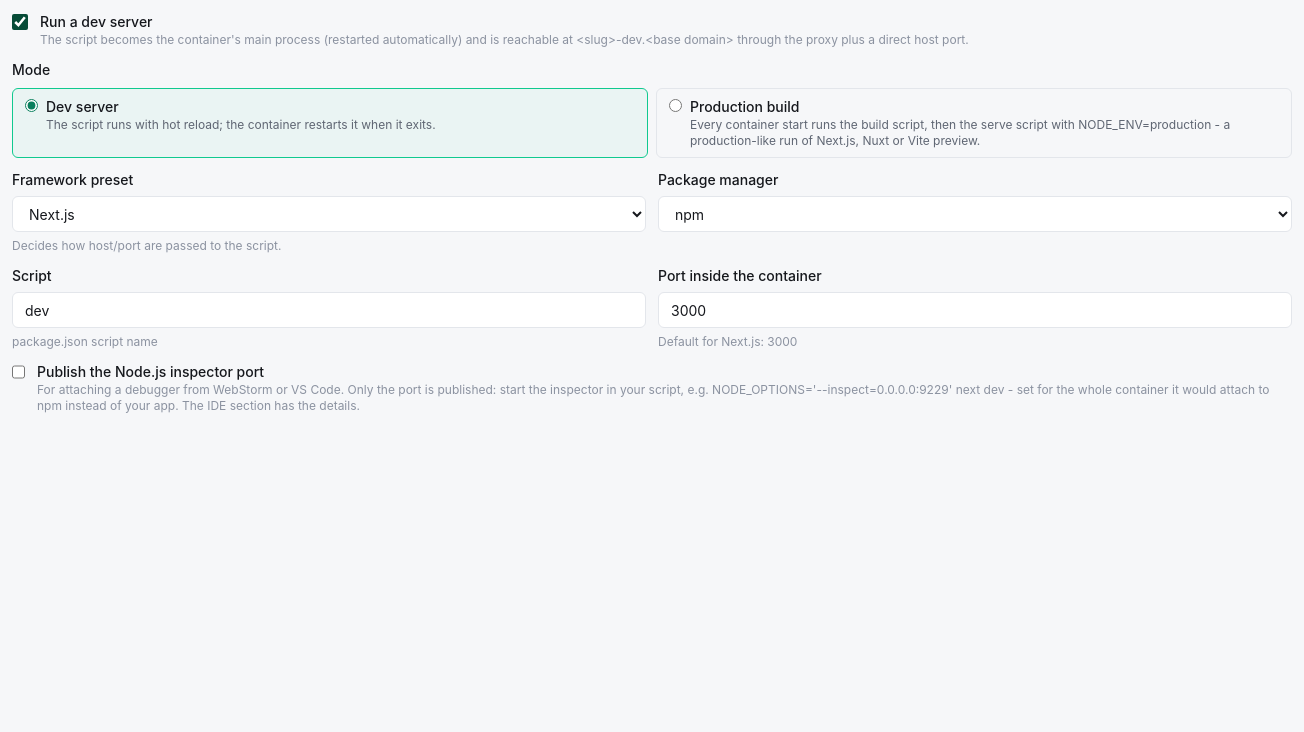
Node production mode and inspector › switches the script defaults with the mode and sends build script and inspector port
Click the radio button labelled "Production build" at (676, 106), box [669,99,682,112]
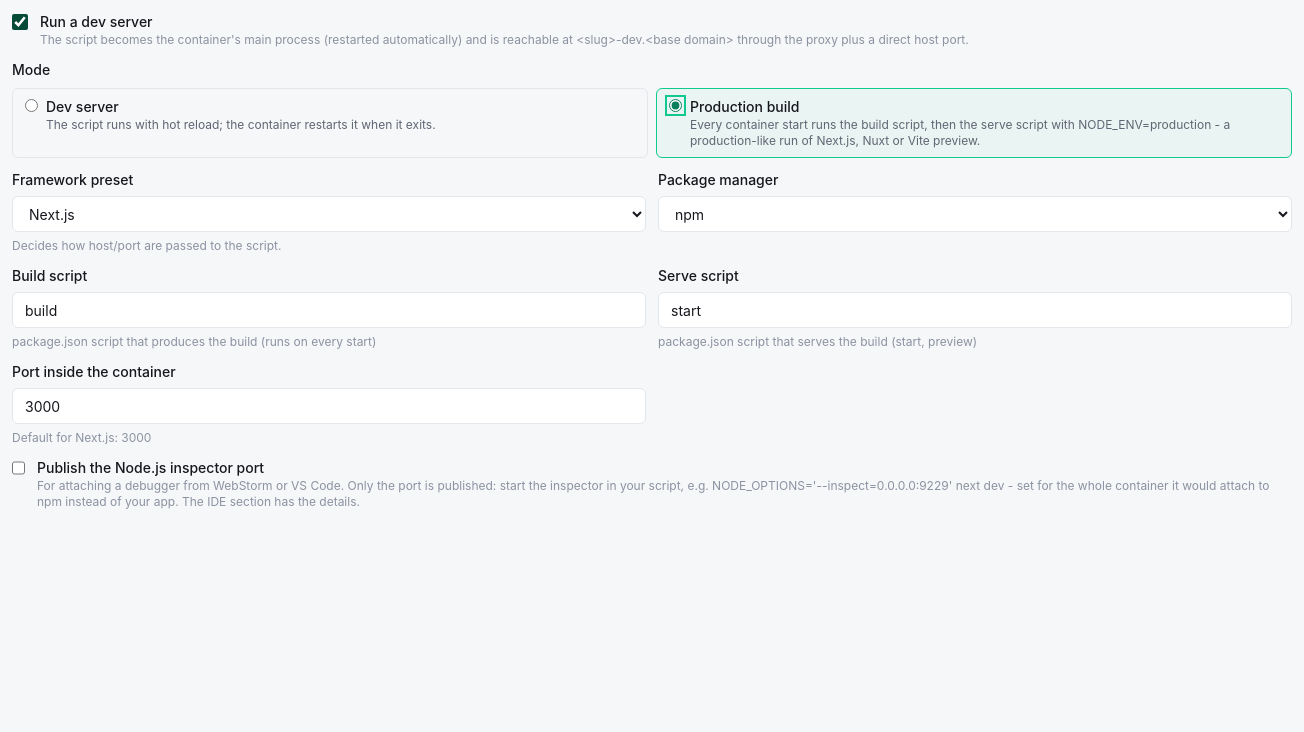
Check: the field labelled "Build script" holds "build", box [12,292,646,328]
Check: the field labelled "Serve script" holds "start", box [658,292,1292,328]
Select "Vite (Vue, React, Svelte, Laravel…)" in the dropdown labelled "Framework preset" at (329, 214), box [12,196,646,232]
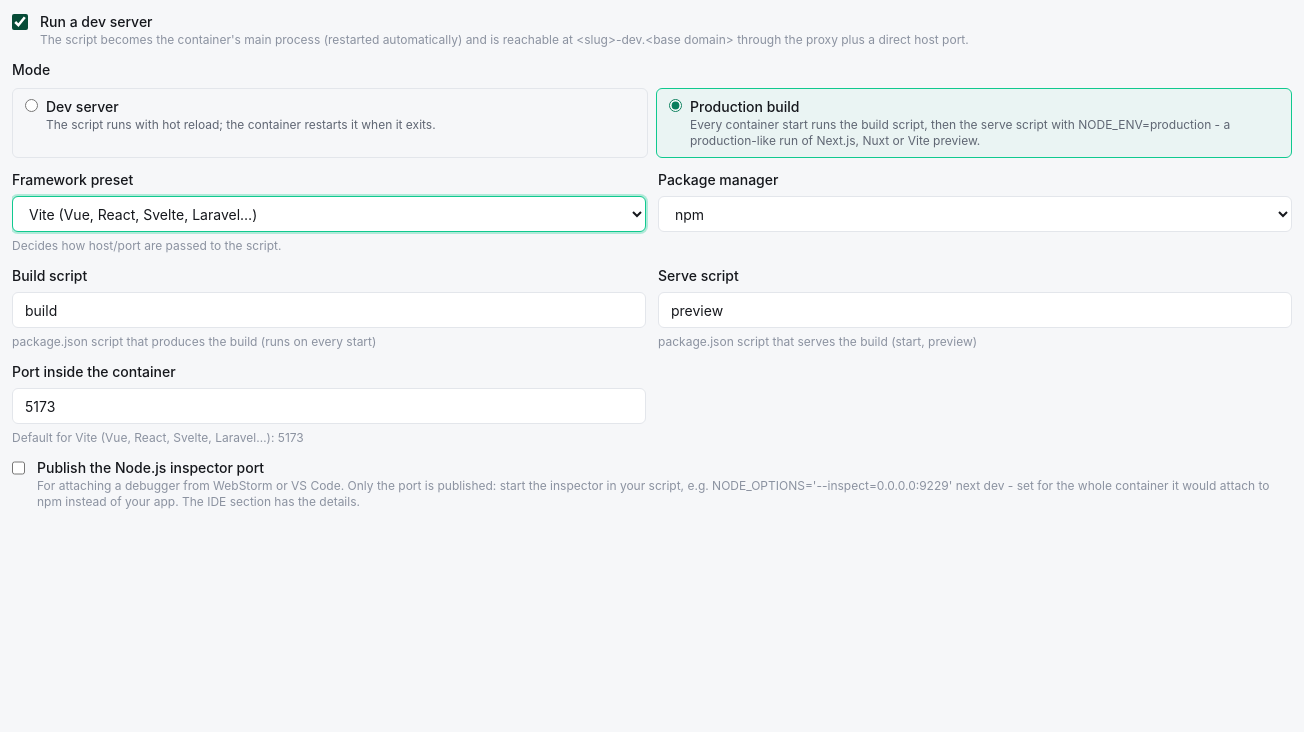
Check: the field labelled "Serve script" holds "preview"
Type "serve" into the field labelled "Serve script" at (975, 310), box [658,292,1292,328]
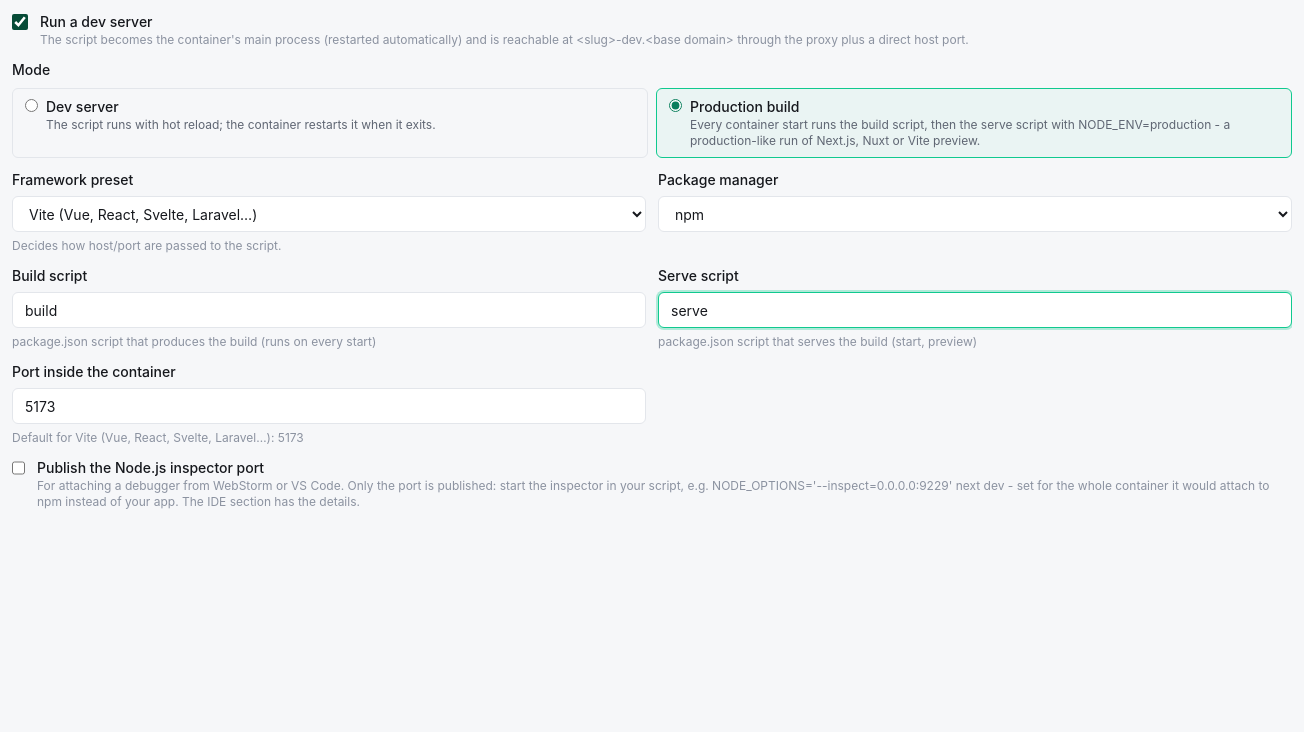
Click the radio button labelled "Dev server" at (32, 106), box [25,99,38,112]
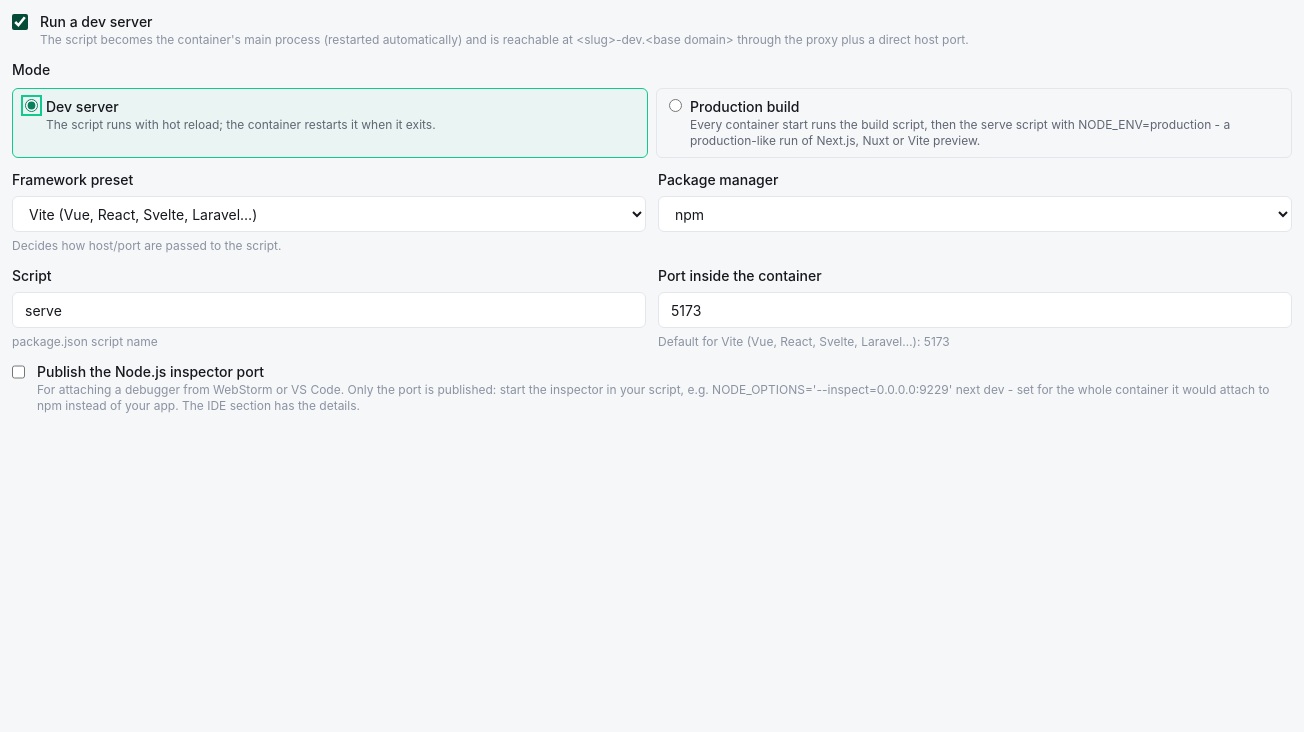
Click the checkbox labelled "Publish the Node.js inspector port" at (18, 372), box [12,364,25,380]
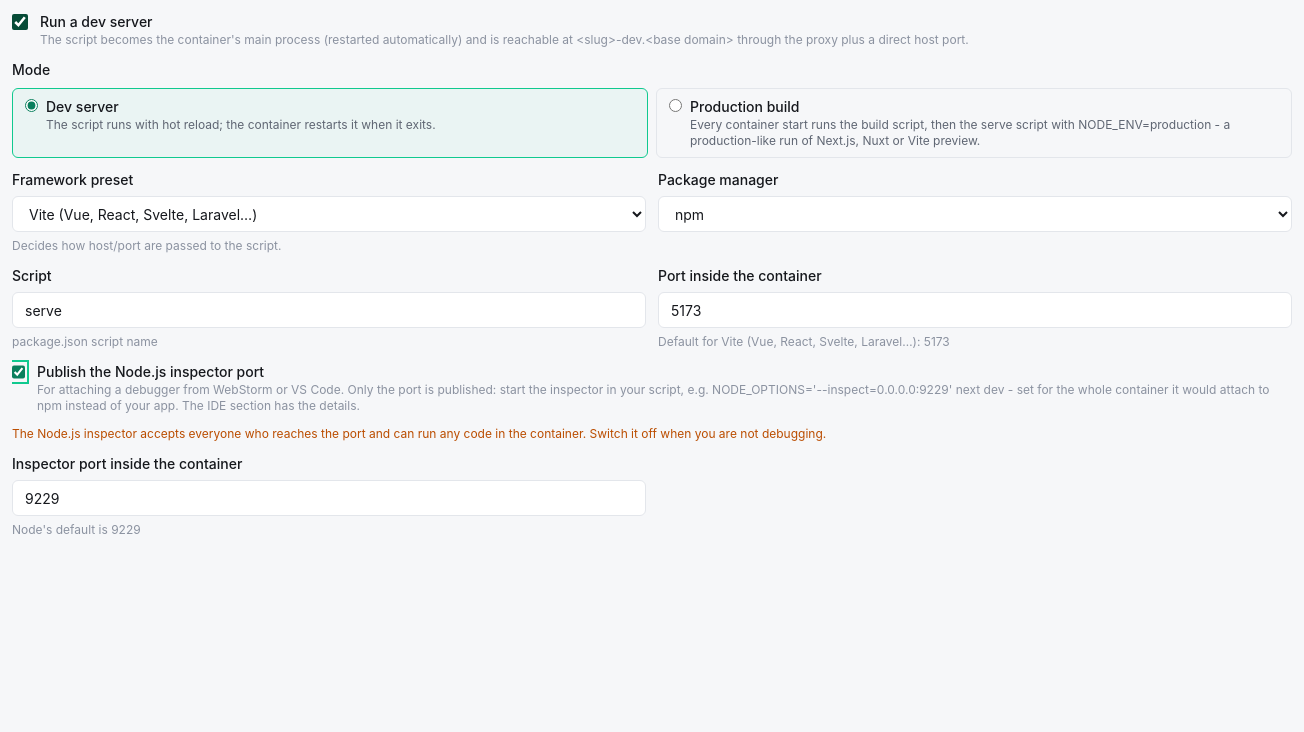
Check: the number field labelled "Inspector port inside the container" holds "9229", box [12,480,646,516]
